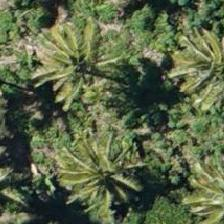coconut_tree: (56, 118, 146, 208), (0, 13, 81, 103), (157, 24, 223, 114), (167, 145, 223, 223)
